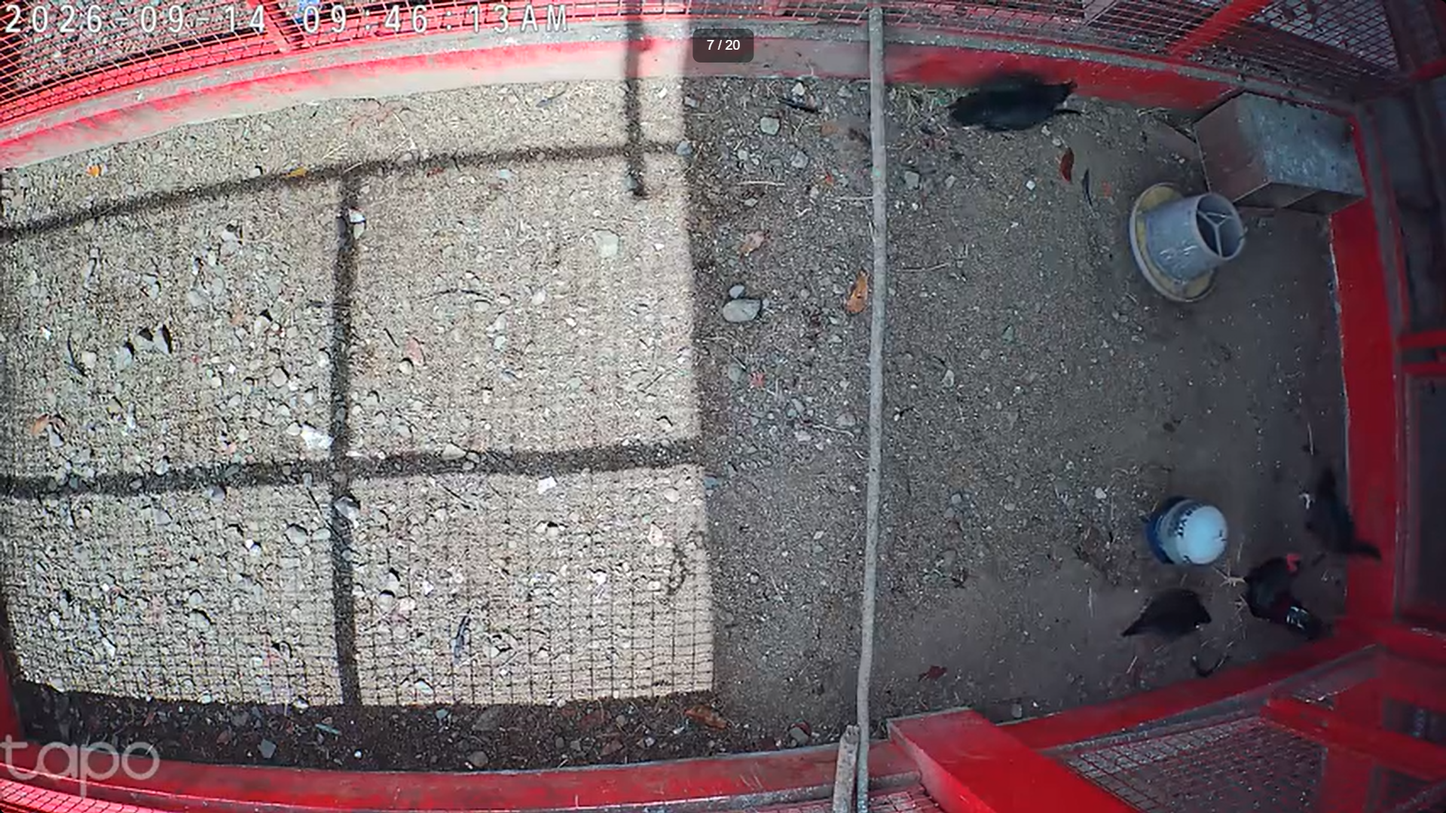Chicken: (1294, 462, 1389, 567), (946, 71, 1080, 141), (1119, 585, 1215, 641)
Rooster: (1211, 551, 1341, 649)
